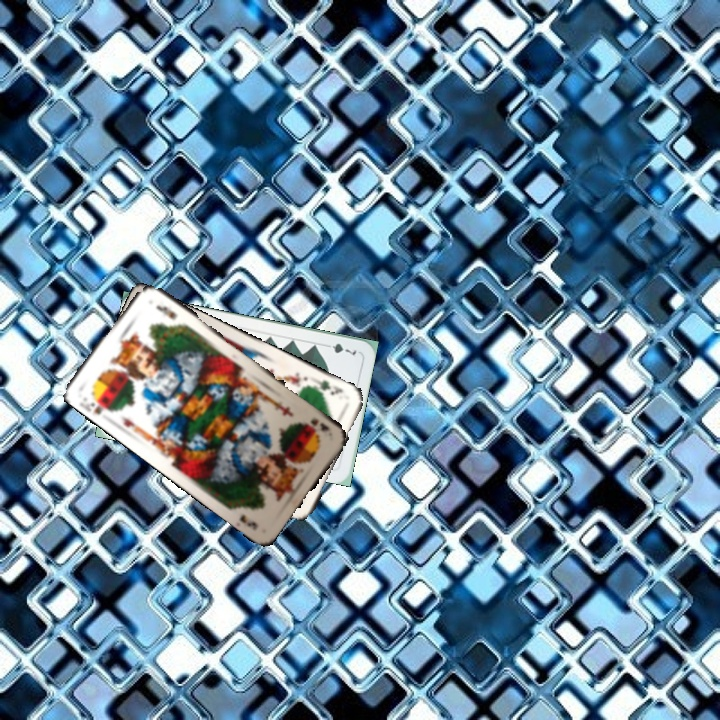G7: (320, 339, 359, 358)
GK: (311, 376, 346, 398)
SK: (84, 395, 115, 417), (307, 414, 333, 434)
